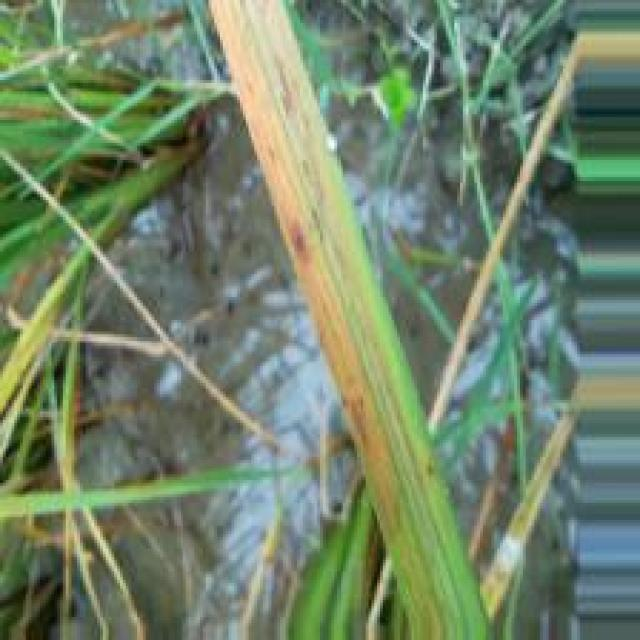Narrow_Brown_Leaf_Spot: (206, 0, 396, 481)
